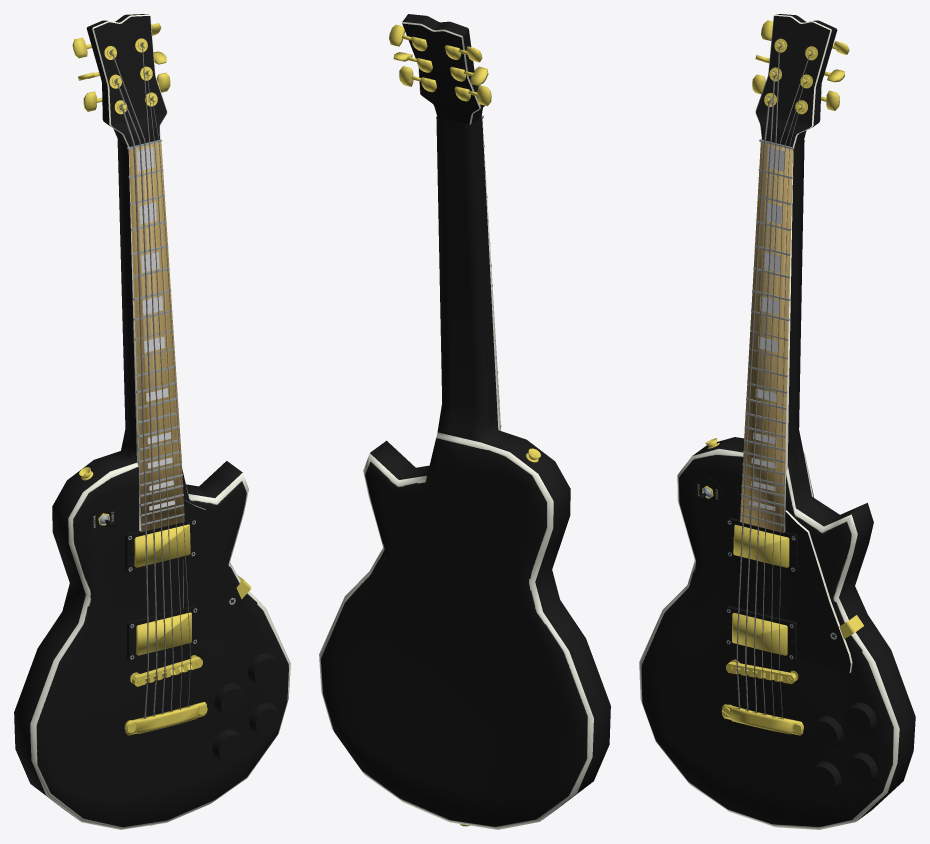
The model's file is レスポール.fbx.
3 views of the same model, side by side, from view 1: azimuth 30°, elevation 25°; view 2: azimuth 150°, elevation 25°; view 3: azimuth 330°, elevation 25° (orthographic). The views are drawn at different scales.
Parts seen in each view (by area): view 1: body＆neck, neck2, head, ita, pjmrak, フレット, ピックアップ2.002, ピックアップ2.001, 6弦, 5弦, 4弦, ピックアップ (+13 smaller); view 2: body＆neck, head, ペグ, neck2; view 3: body＆neck, neck2, head, ita, pjmrak, フレット, ピックアップ2.002, ピックアップ2.001, 6弦, 5弦, 4弦, ピックアップ (+13 smaller).
Boxes of the visible parts, x1=… form: body＆neck: x1=14, y1=139, x2=290, y2=829; neck2: x1=128, y1=142, x2=184, y2=531; head: x1=86, y1=14, x2=167, y2=146; ita: x1=183, y1=500, x2=251, y2=640; pjmrak: x1=136, y1=147, x2=174, y2=510; フレット: x1=127, y1=139, x2=184, y2=525; ピックアップ2.002: x1=134, y1=524, x2=190, y2=567; ピックアップ2.001: x1=136, y1=612, x2=191, y2=655; 6弦: x1=119, y1=103, x2=148, y2=718; 5弦: x1=114, y1=78, x2=157, y2=716; 4弦: x1=109, y1=49, x2=165, y2=714; ピックアップ: x1=127, y1=605, x2=198, y2=660; body＆neck: x1=319, y1=116, x2=610, y2=829; head: x1=402, y1=14, x2=484, y2=124; ペグ: x1=389, y1=24, x2=491, y2=106; neck2: x1=470, y1=118, x2=500, y2=430; body＆neck: x1=639, y1=140, x2=915, y2=829; neck2: x1=740, y1=142, x2=793, y2=532; head: x1=755, y1=14, x2=837, y2=147; ita: x1=785, y1=510, x2=863, y2=673; pjmrak: x1=749, y1=147, x2=784, y2=510; フレット: x1=740, y1=139, x2=794, y2=525; ピックアップ2.002: x1=733, y1=524, x2=789, y2=567; ピックアップ2.001: x1=732, y1=613, x2=787, y2=655; 6弦: x1=736, y1=96, x2=771, y2=709; 5弦: x1=745, y1=71, x2=776, y2=711; 4弦: x1=754, y1=42, x2=781, y2=713; ピックアップ: x1=725, y1=606, x2=796, y2=661.
Bounding box in the file's own units: 250 × 719 × 88.59.
10 materials, 6 textured.
